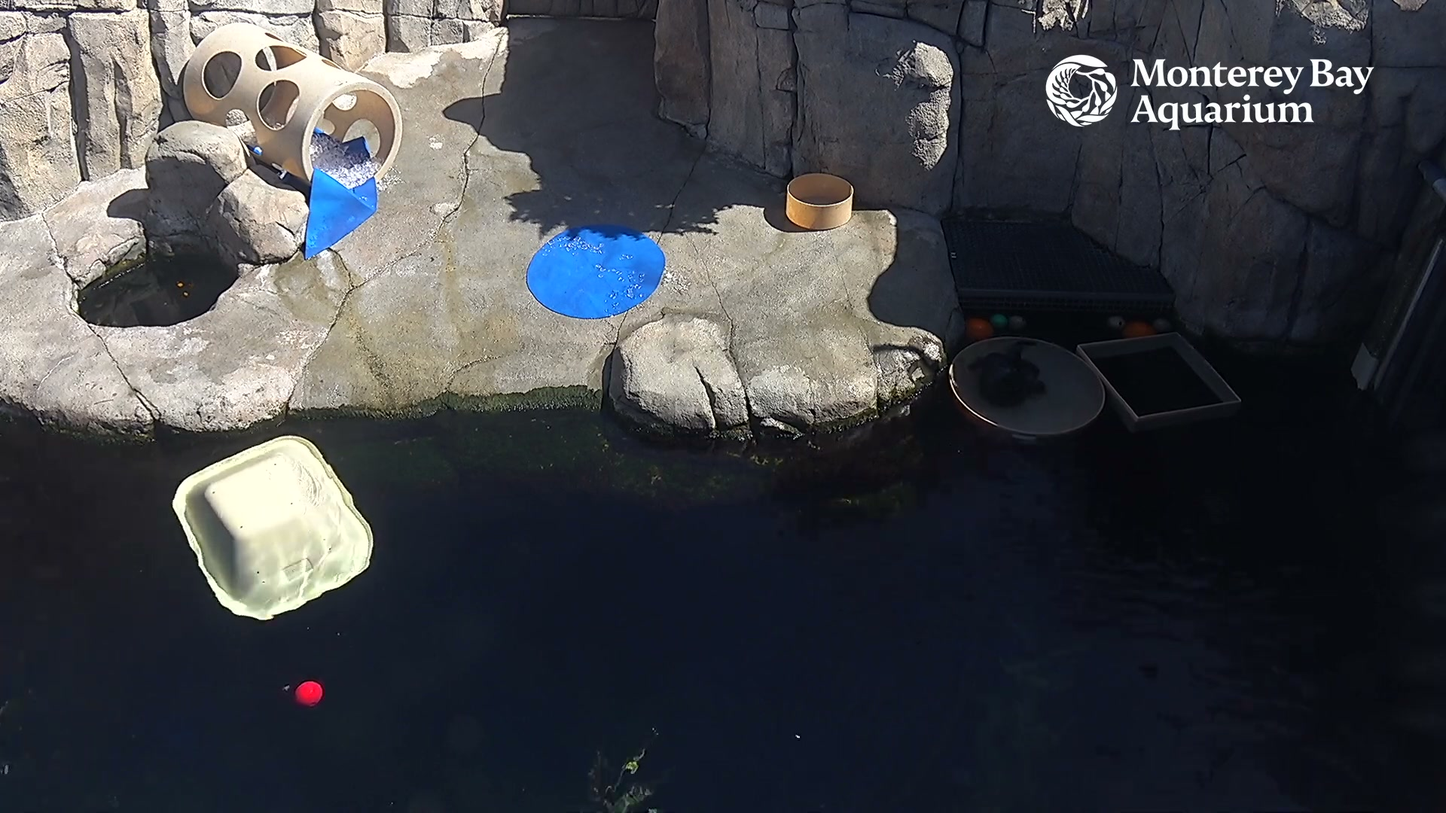Southern Sea Otter: (954, 323, 1059, 421)
